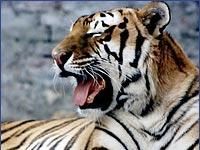Tigre: (37, 10, 197, 150)
